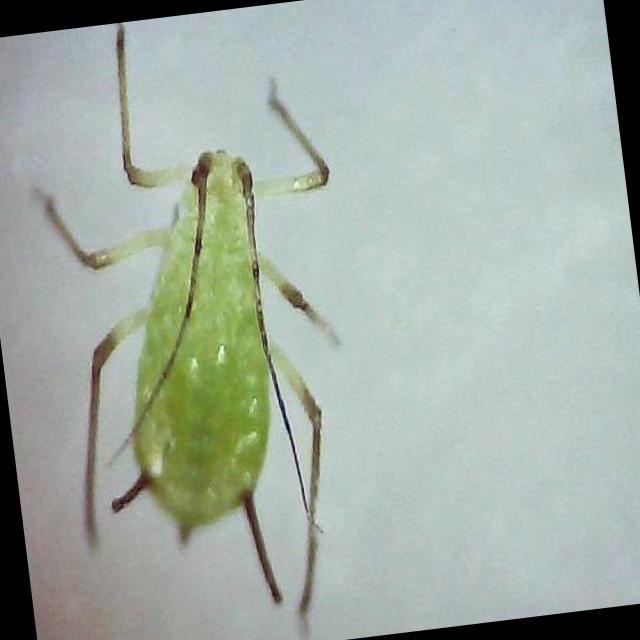aphid: (18, 61, 386, 612)
